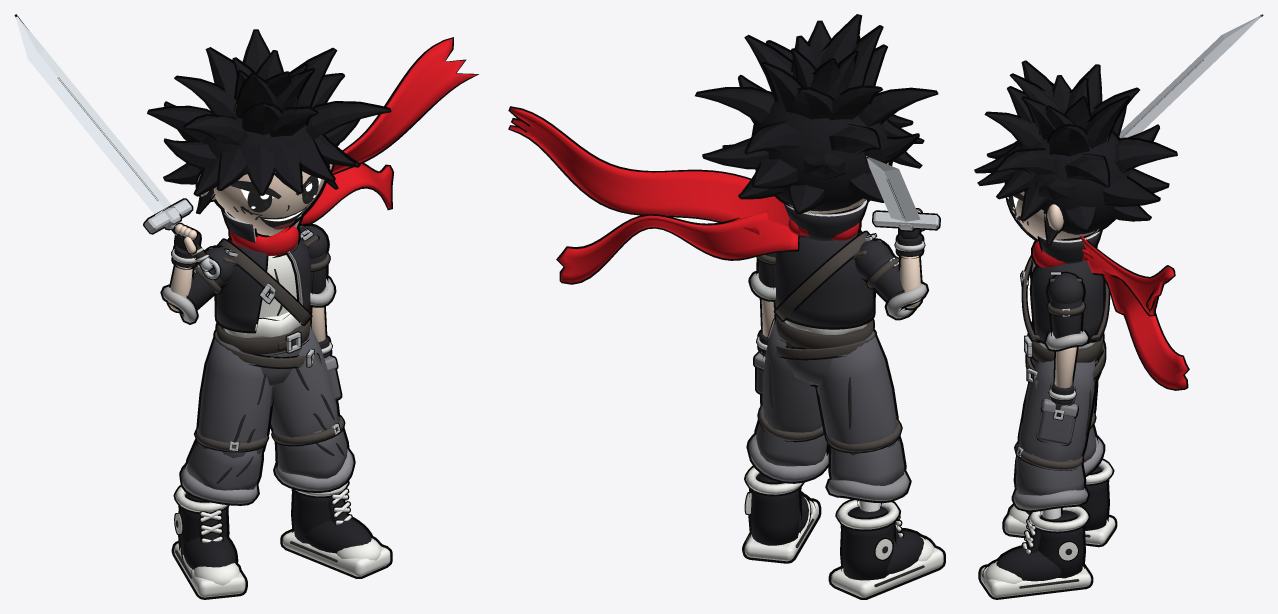
File: anime.glb
3 views of the same model, side by side, from view 1: azimuth 30°, elevation 25°; view 2: azimuth 150°, elevation 25°; view 3: azimuth 270°, elevation 25° (orthographic). The views are drawn at different scales.
Parts seen in each view (by area): view 1: ThighR, ScarfTail1, Blade, ThighL, Jacket, Skull, ShinTrouserR, ShinTrouserL, ScarfTail2, SoleL, Spike7, UpperL (+40 smaller); view 2: ScarfTail1, ScarfTail2, ThighR, Jacket, HairCap, ThighL, HighTopL, HighTopR, ShinTrouserR, SoleR, ShinTrouserL, ChestStrap (+38 smaller); view 3: ThighL, ScarfTail2, HairCap, Jacket, Blade, ScarfTail1, ShinTrouserL, SoleL, HighTopL, UpperL, Spike11, CuffL (+38 smaller).
Boxes of the visible parts, x1,y1,x2,y2 form: ThighR: (196,332,274,458); ScarfTail1: (332,37,478,174); Blade: (14,14,171,215); ThighL: (270,326,340,446); Jacket: (214,238,313,333); Skull: (213,163,329,235); ShinTrouserR: (184,439,264,490); ShinTrouserL: (274,412,349,478); ScarfTail2: (301,163,393,224); SoleL: (280,529,392,578); Spike7: (305,101,391,140); UpperL: (305,517,374,553); ScarfTail1: (508,106,789,234); ScarfTail2: (556,211,799,284); ThighR: (815,327,898,455); Jacket: (773,230,875,329); HairCap: (751,101,890,214); ThighL: (760,318,822,432); HighTopL: (748,473,802,545); HighTopR: (840,506,896,580); ShinTrouserR: (828,436,906,485); SoleR: (828,544,945,599); ShinTrouserL: (754,412,828,466); ChestStrap: (773,230,869,321); ThighL: (1017,360,1096,461); ScarfTail2: (1081,248,1189,390); HairCap: (1015,130,1133,235); Jacket: (1029,259,1105,343); Blade: (1119,14,1263,138); ScarfTail1: (1080,235,1175,316); ShinTrouserL: (1013,454,1086,495); SoleL: (978,564,1093,599); HighTopL: (1038,510,1085,578); UpperL: (993,545,1061,581); Spike11: (1114,137,1177,173); CuffL: (1011,487,1089,512).
Bounding box in the file's own units: 1.83 × 2.17 × 1.17.
